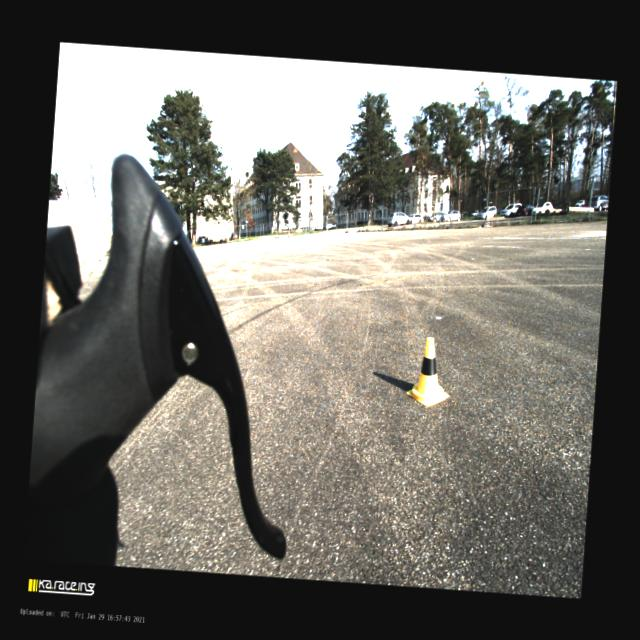yellow_cone: (406, 336, 452, 406)
